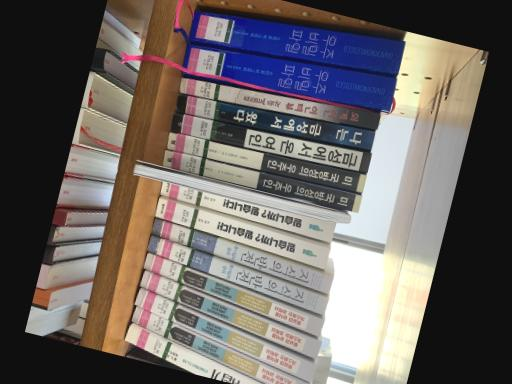book-spine: (133, 289, 315, 382), (139, 271, 321, 359), (142, 254, 322, 336), (146, 236, 328, 315), (182, 44, 396, 110), (150, 218, 332, 294), (130, 306, 307, 384), (188, 11, 404, 74), (154, 198, 329, 270), (162, 150, 361, 212), (165, 132, 365, 193), (169, 113, 371, 173), (174, 94, 374, 151), (159, 182, 335, 243), (177, 77, 379, 130), (123, 325, 254, 384)
